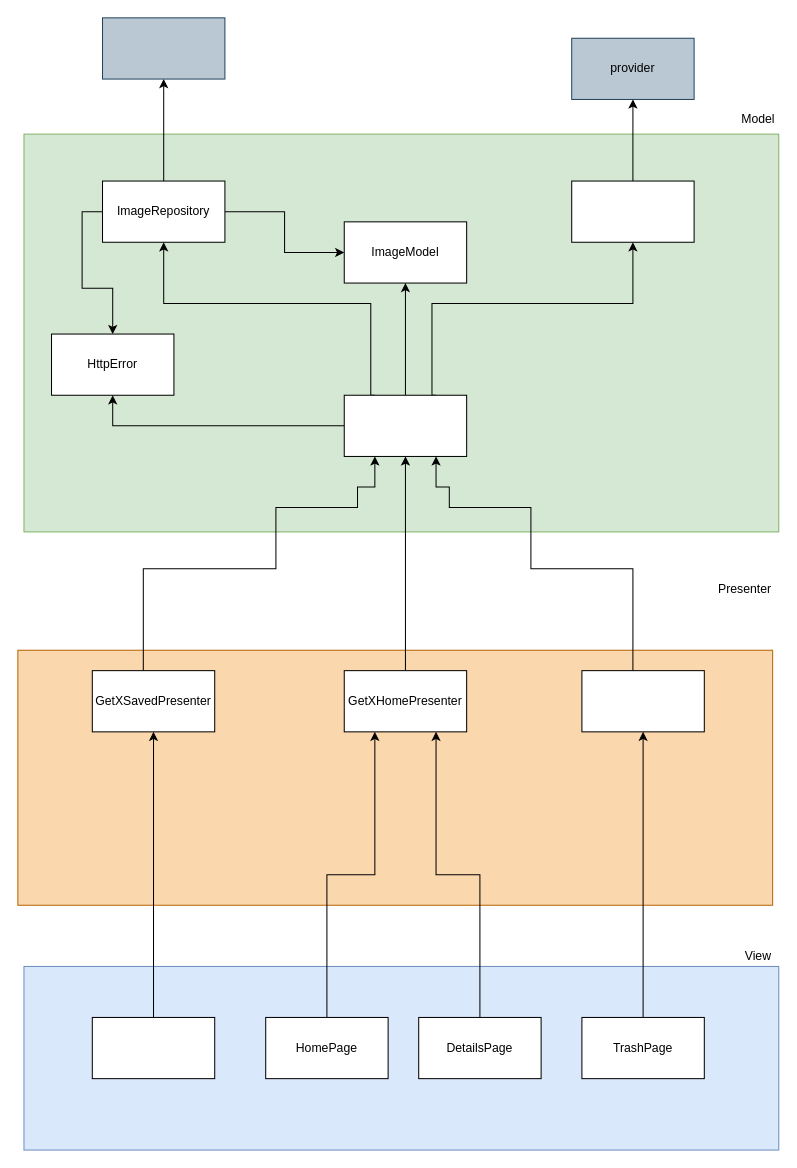
Image size: 797x1168. Some labels were removed from this diagram. Here are the shapes that lost their labels. From the top down, the centre of each, then its label:
At point (163, 48): "http".
At point (632, 211): "Cache".
At point (405, 425): "ImageResults".
At point (642, 701): "GetXTrashPresenter".
At point (153, 1047): "SavedPage".
